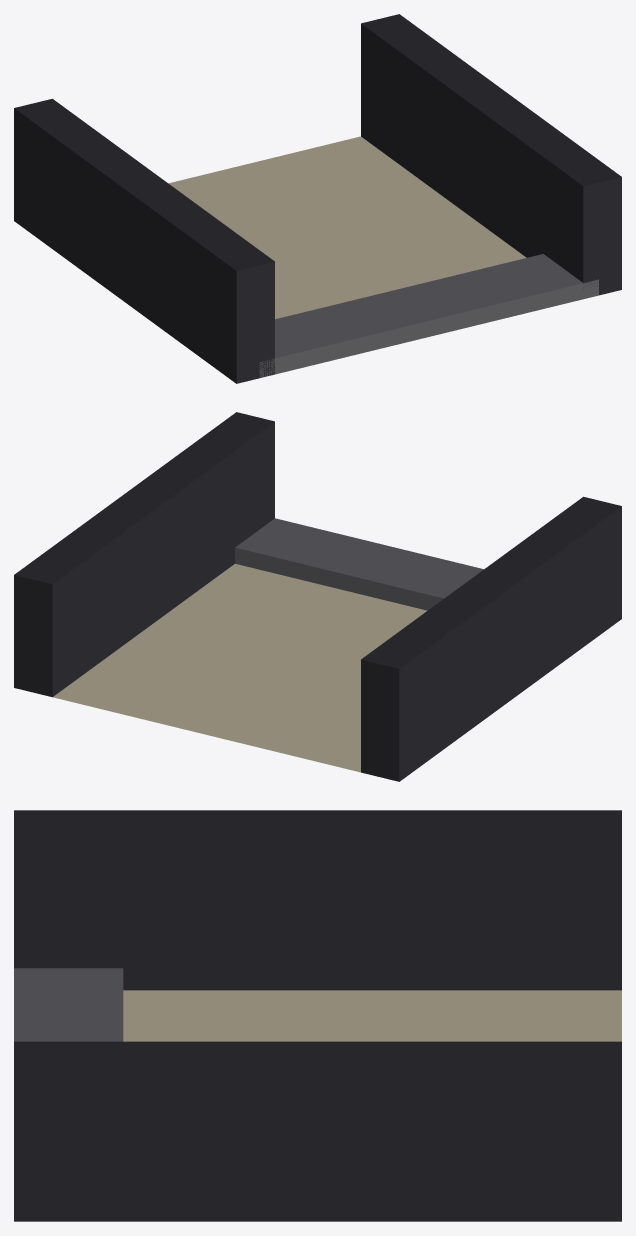
File: interior_doorway_base.fbx
3 views of the same model, one above another, from view 1: azimuth 30°, elevation 25°; view 2: azimuth 150°, elevation 25°; view 3: azimuth 270°, elevation 25° (orthographic). The views are drawn at different scales.
Visible parts, largest first — view 1: interior_doorway_base; view 2: interior_doorway_base; view 3: interior_doorway_base.
Part boxes in pixels (bbox=[...]): interior_doorway_base: bbox=[14, 14, 621, 383]; interior_doorway_base: bbox=[14, 412, 621, 781]; interior_doorway_base: bbox=[14, 810, 621, 1221].
Size of the model in its own units: 0.5 by 0.14 by 0.5.
